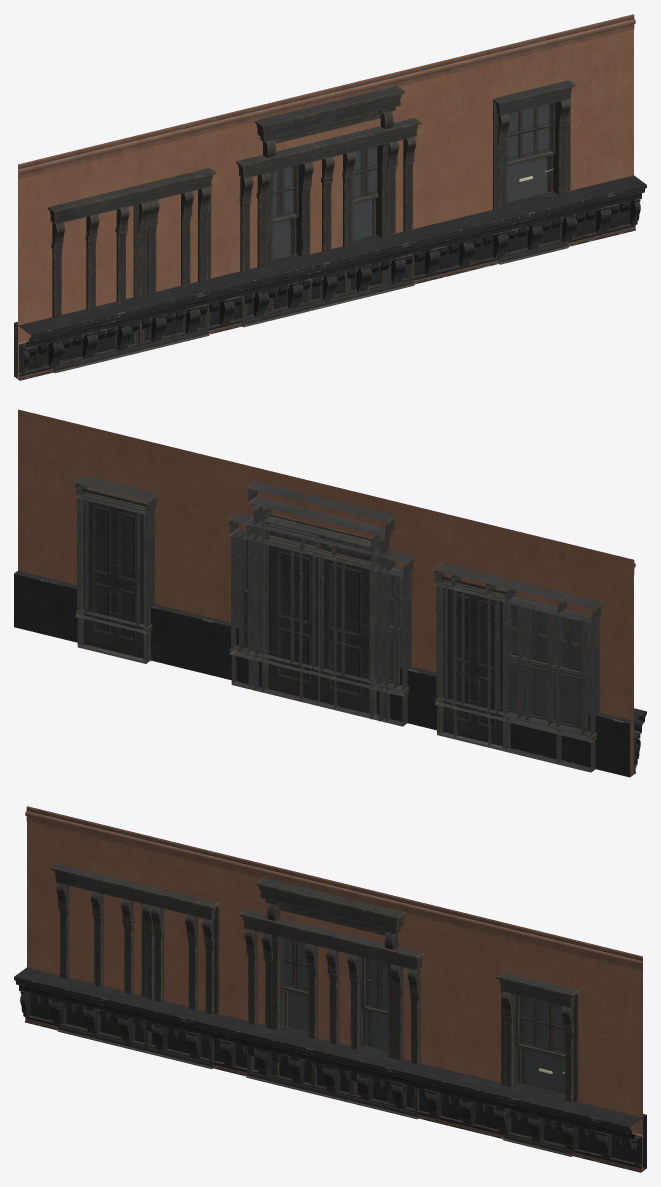
Rendered from apartments.glb.
3 views of the same model, one above another, from view 1: azimuth 30°, elevation 25°; view 2: azimuth 150°, elevation 25°; view 3: azimuth 330°, elevation 25° (orthographic).
Visible parts, largest first — view 1: ApartmentEntry, ApartmentEntryAlt, ApartmentCrown, ApartmentUpperAlt, ApartmentUpper; view 2: ApartmentEntry, ApartmentEntryAlt, ApartmentUpperAlt, ApartmentCrown, ApartmentUpper; view 3: ApartmentEntry, ApartmentEntryAlt, ApartmentCrown, ApartmentUpper, ApartmentUpperAlt.
Boxes of the visible parts, left/top/right/bottom form: ApartmentEntry: left=18, top=14, right=635, bottom=379; ApartmentEntryAlt: left=18, top=14, right=634, bottom=377; ApartmentCrown: left=14, top=175, right=646, bottom=380; ApartmentUpperAlt: left=18, top=115, right=428, bottom=375; ApartmentUpper: left=18, top=118, right=562, bottom=378; ApartmentEntry: left=18, top=409, right=635, bottom=774; ApartmentEntryAlt: left=18, top=410, right=635, bottom=773; ApartmentUpperAlt: left=223, top=460, right=633, bottom=772; ApartmentCrown: left=14, top=570, right=646, bottom=777; ApartmentUpper: left=428, top=510, right=633, bottom=773; ApartmentEntry: left=25, top=806, right=642, bottom=1171; ApartmentEntryAlt: left=26, top=807, right=642, bottom=1170; ApartmentCrown: left=14, top=967, right=646, bottom=1172; ApartmentUpper: left=27, top=807, right=511, bottom=1118; ApartmentUpperAlt: left=27, top=807, right=437, bottom=1112.
Size of the model in its own units: 9 by 3 by 0.57.
5 materials, 5 textured.
